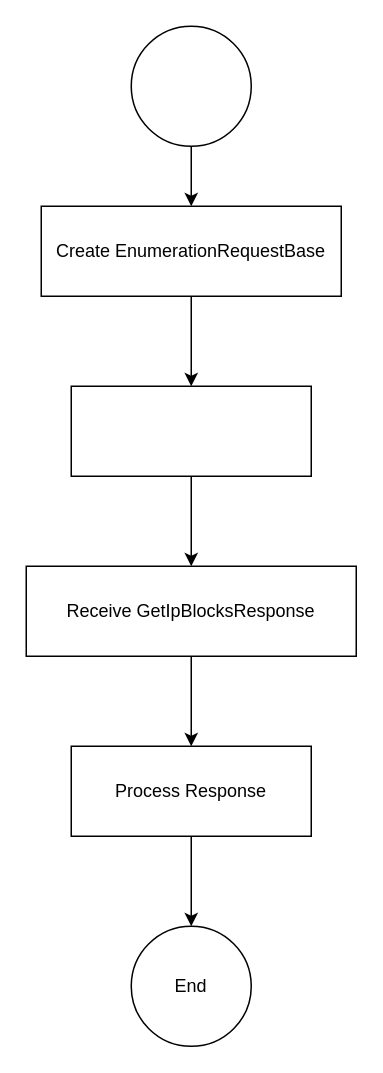
Image size: 383x1073. Some labels were removed from this diagram. The shapes that lost their labels are listed below. From the top down, each one's centre as x and y in pixels, then its label:
At point 190,85: "Start".
At point 190,430: "Send Request to PHP IPAM".
